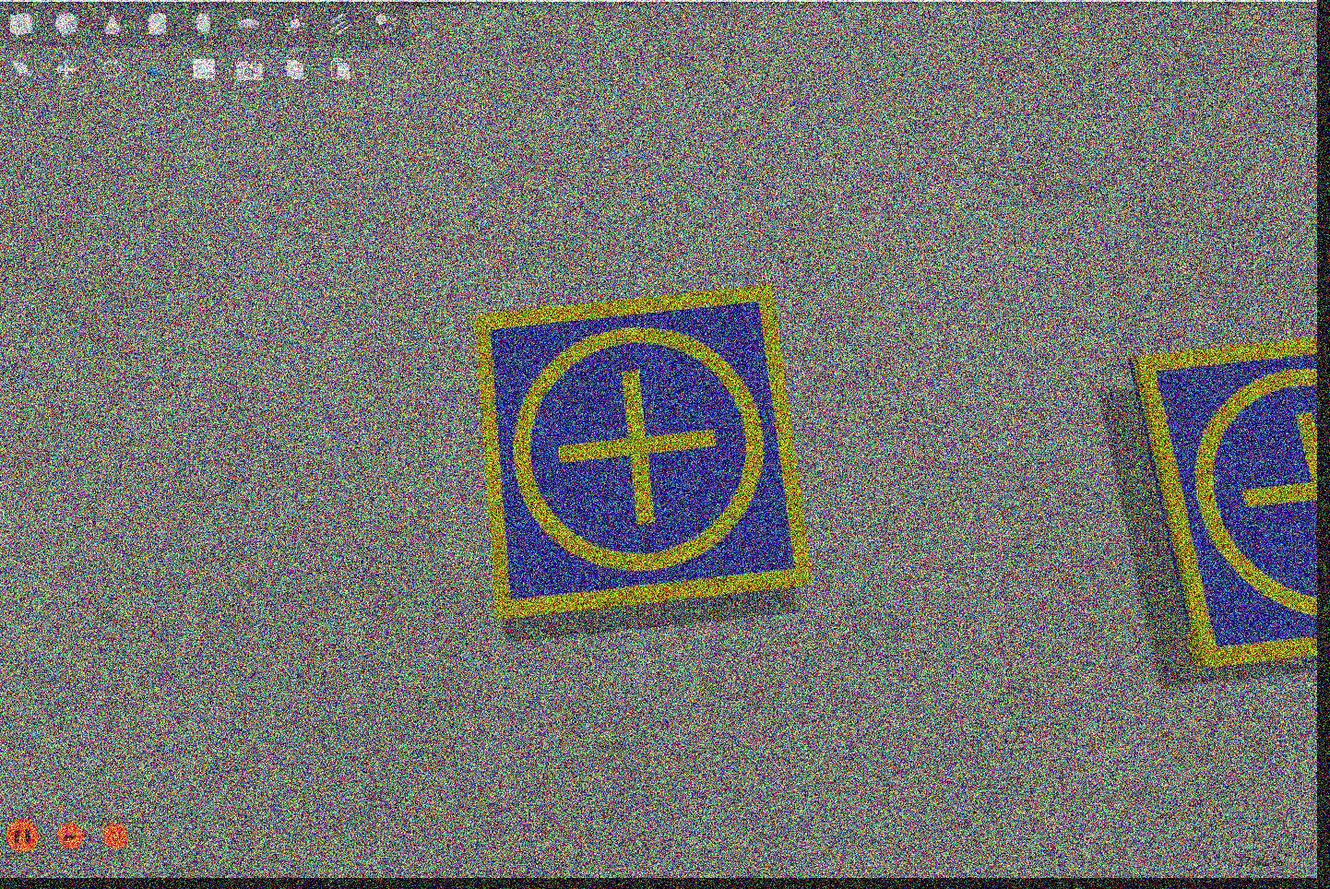small_base: (473, 290, 818, 626), (1132, 341, 1320, 668)
